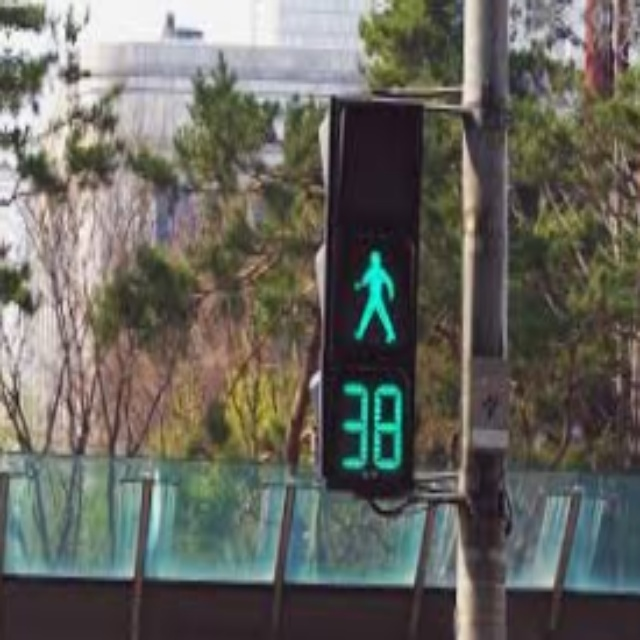green_light: (336, 377, 403, 480), (346, 242, 400, 354)
